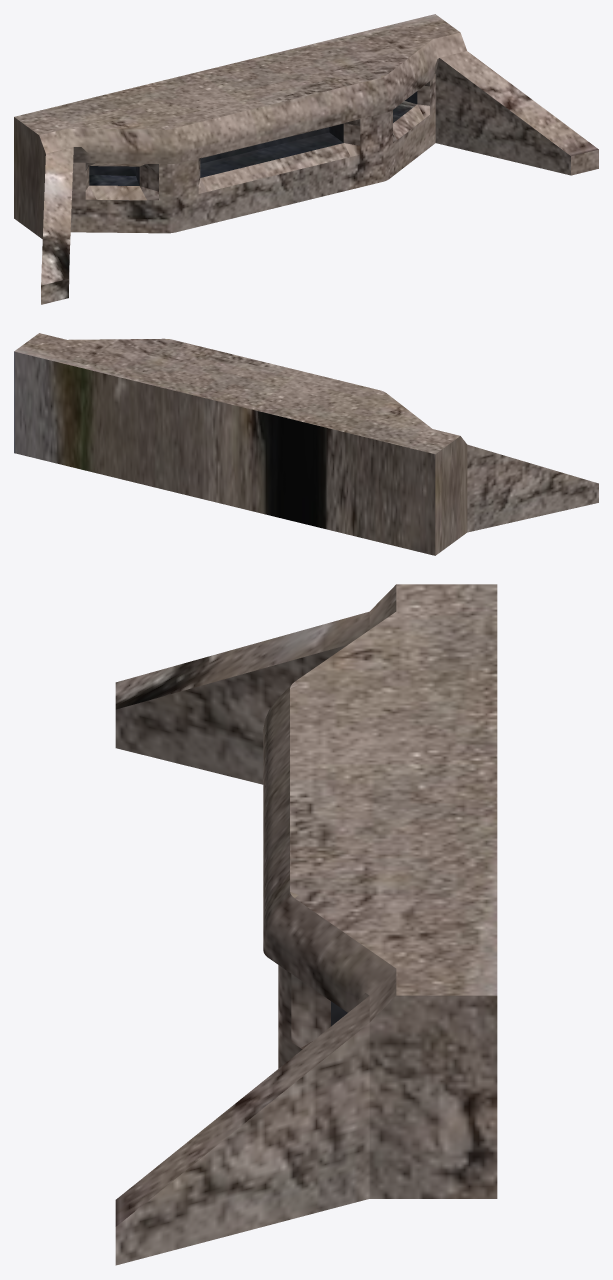
Rendered from BunkerPrototype.fbx.
3 views of the same model, one above another, from view 1: azimuth 30°, elevation 25°; view 2: azimuth 150°, elevation 25°; view 3: azimuth 270°, elevation 25° (orthographic). The views are drawn at different scales.
Parts seen in each view (by area): view 1: Cube; view 2: Cube; view 3: Cube.
Boxes of the visible parts, <box> form: Cube: <box>14,14,598,304</box>; Cube: <box>14,333,598,555</box>; Cube: <box>115,584,497,1265</box>.
Size of the model in its own units: 2451 by 427 by 725.
